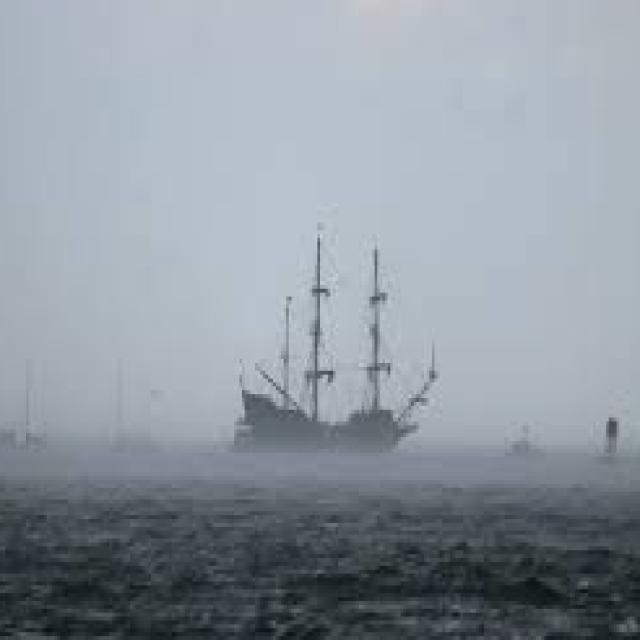fishing boat: (224, 219, 442, 448)
